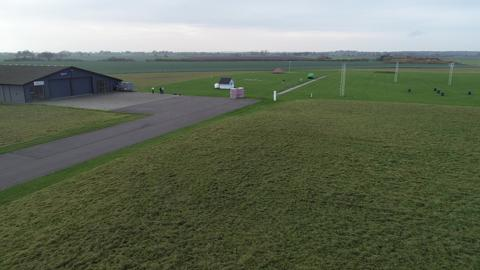RockwoolPallet: (238, 86, 245, 98)
